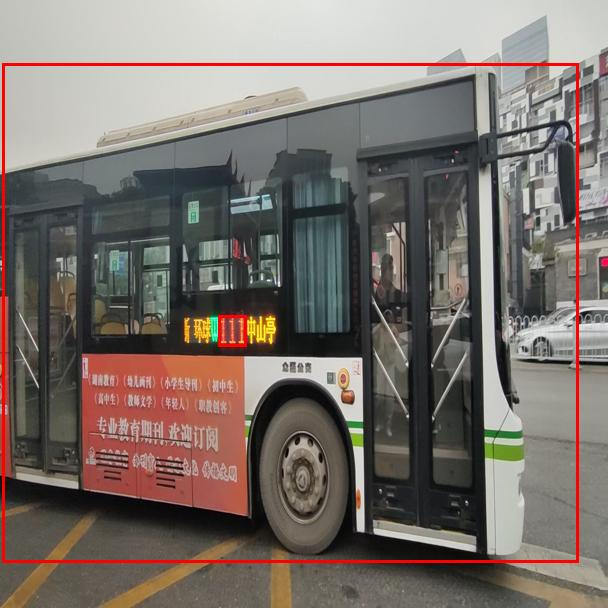bus: (2, 63, 578, 562)
screen: (218, 315, 246, 346)
